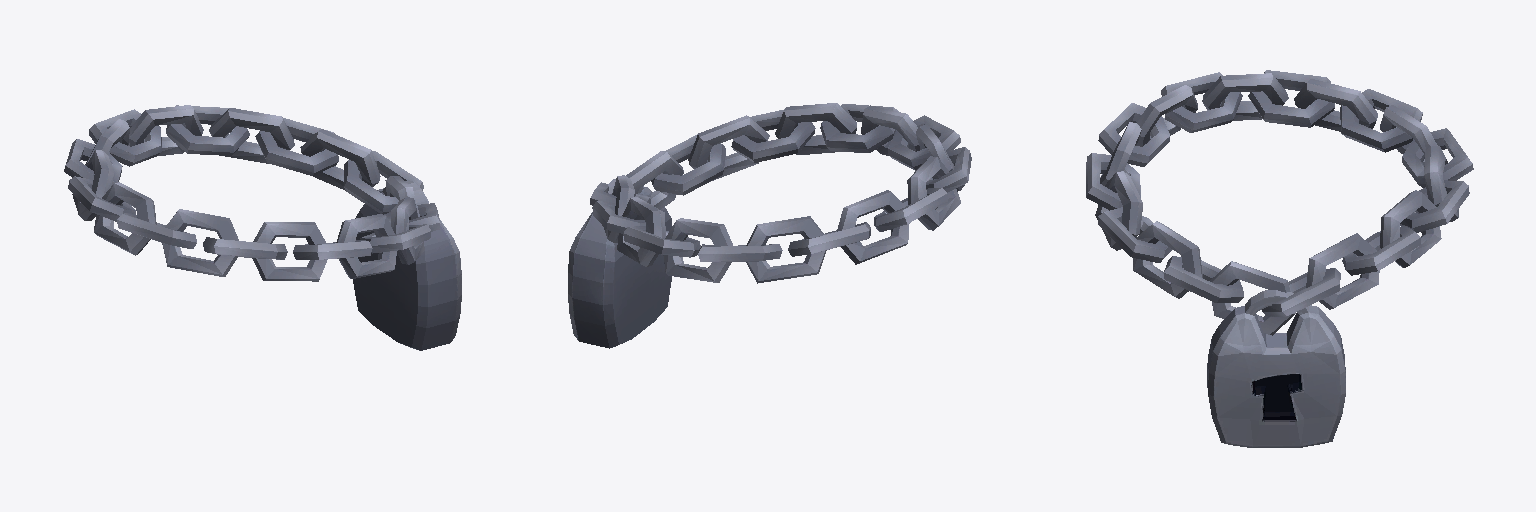
3 views of the same model, side by side, from view 1: azimuth 30°, elevation 25°; view 2: azimuth 150°, elevation 25°; view 3: azimuth 270°, elevation 25° (orthographic).
Visible parts, largest first — view 1: Lock1; view 2: Lock1; view 3: Lock1.
Boxes of the visible parts, box(x1,y1,x2,y2) form: Lock1: box(64, 105, 461, 350); Lock1: box(568, 103, 971, 348); Lock1: box(1086, 70, 1473, 447).
Size of the model in its own units: 7.01 by 4.33 by 6.78.
Materials: 1 (1 with a texture image).